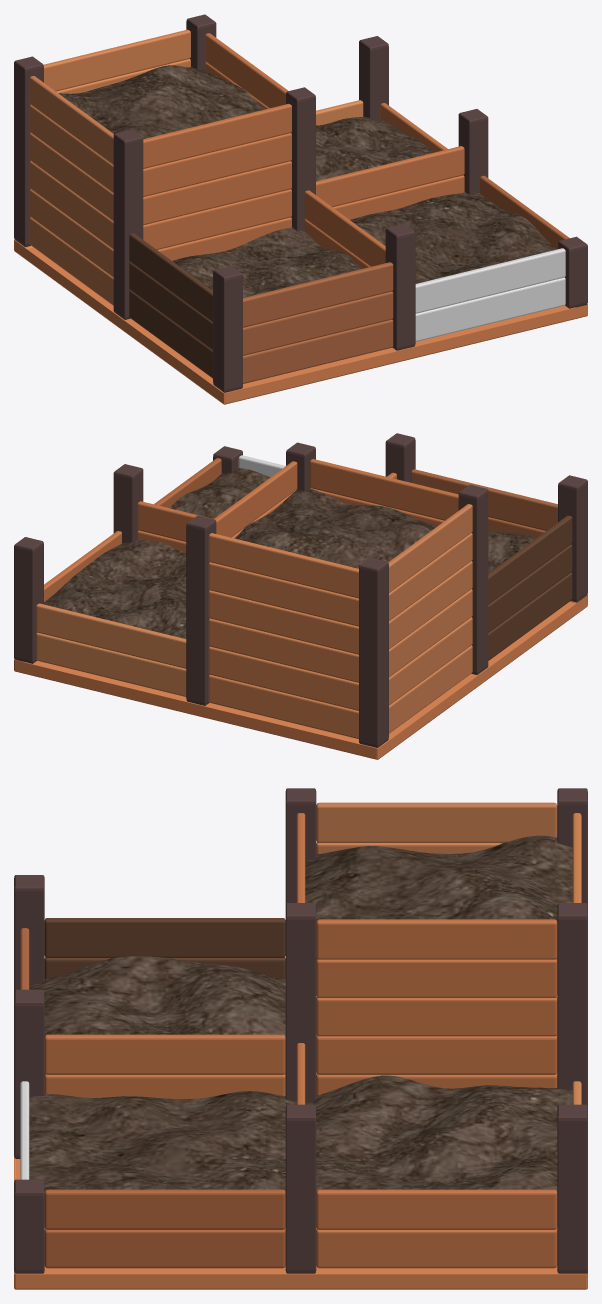
The model's file is Paso 2.fbx.
3 renders of one model, top to bottom at view 1: azimuth 30°, elevation 25°; view 2: azimuth 150°, elevation 25°; view 3: azimuth 270°, elevation 25°, orthographic. The views are drawn at different scales.
Visible parts, largest first — view 1: Cube.006, Cube.010, Cube.012, Cube.014, Plane.007, Plane.008, Cube.015, Plane.010, Cube.013, Plane.006, Cube.007, Cube.011 (+6 smaller); view 2: Cube.011, Cube.006, Cube.012, Plane.008, Plane.009, Plane.010, Cube.018, Cube.013, Cube.010, Cube.014, Cube.009, Plane.007 (+5 smaller); view 3: Cube.009, Cube.006, Plane.009, Plane.007, Cube.016, Cube.017, Plane.010, Plane.006, Cube.008, Plane.008, Cube.013, Cube.012 (+3 smaller).
Boxes of the visible parts, <box> form: Cube.006: <box>14,14,587,392</box>; Cube.010: <box>143,103,291,260</box>; Cube.012: <box>29,76,113,305</box>; Cube.014: <box>243,262,393,383</box>; Plane.007: <box>350,192,556,283</box>; Plane.008: <box>14,239,587,404</box>; Cube.015: <box>415,248,565,341</box>; Plane.010: <box>59,65,264,138</box>; Cube.013: <box>129,233,212,378</box>; Plane.006: <box>172,227,363,297</box>; Cube.007: <box>316,146,464,219</box>; Cube.011: <box>43,29,190,93</box>; Cube.011: <box>208,533,358,739</box>; Cube.006: <box>14,433,587,747</box>; Cube.012: <box>388,504,472,733</box>; Plane.008: <box>14,594,587,759</box>; Plane.009: <box>44,540,186,638</box>; Plane.010: <box>235,488,437,568</box>; Cube.018: <box>36,603,186,696</box>; Cube.013: <box>488,515,572,660</box>; Cube.010: <box>310,459,458,525</box>; Cube.014: <box>411,469,557,537</box>; Cube.009: <box>213,461,297,538</box>; Plane.007: <box>170,467,270,518</box>; Cube.009: <box>316,919,557,1095</box>; Cube.006: <box>14,788,587,1273</box>; Plane.009: <box>305,1075,572,1191</box>; Plane.007: <box>29,1091,296,1191</box>; Cube.016: <box>44,1189,285,1268</box>; Cube.017: <box>316,1189,557,1268</box>; Plane.010: <box>305,835,572,959</box>; Plane.006: <box>29,956,285,1074</box>; Cube.008: <box>44,1034,285,1098</box>; Plane.008: <box>14,1034,587,1289</box>; Cube.013: <box>44,918,285,979</box>; Cube.012: <box>316,802,557,998</box>.
Bounding box in the file's own units: 58.55 × 29.3 × 58.55.
18 materials, 4 textured.
